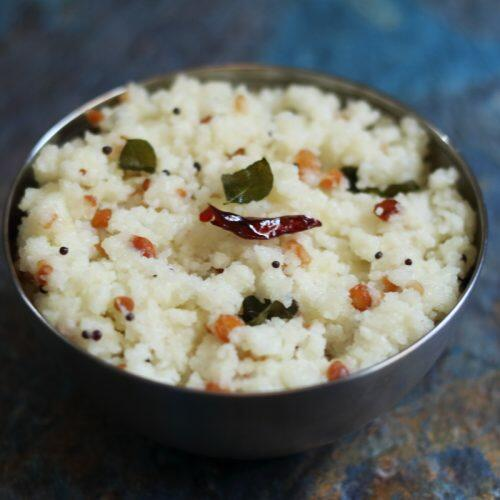upma: (4, 70, 496, 395)
